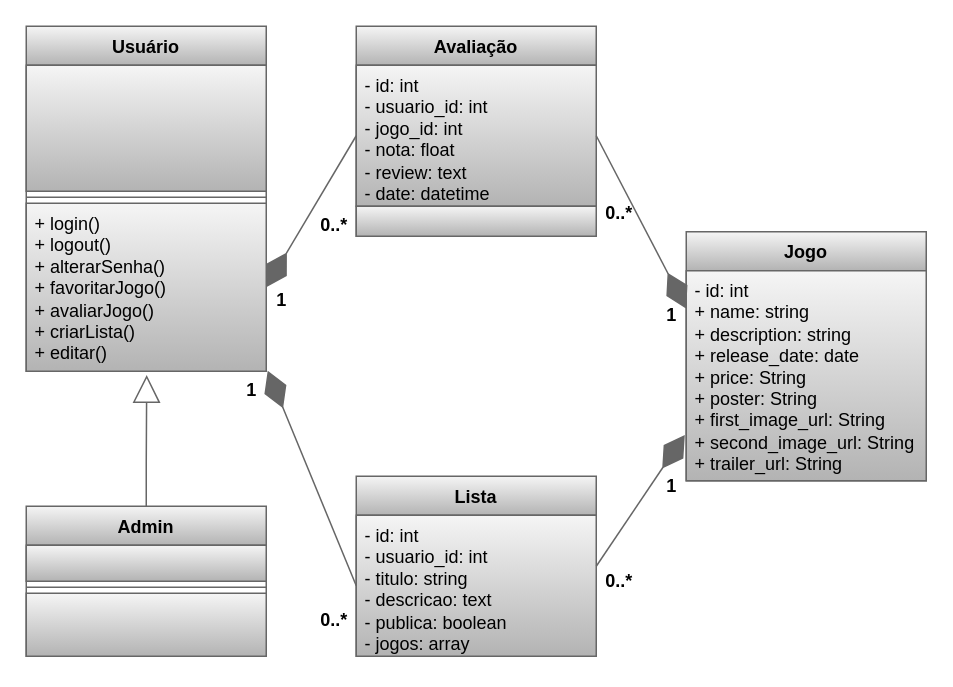
Image size: 953x687. Some labels were removed from this diagram. Each missing label, with the centre of its shape:
"+ editar()" goes at pixel 475 220.
"+ excluirReview(reviewId) + banirUsuario(usuarioId)" goes at pixel 145 624.
"- id: Int - nome: String - email: String - senha: String - aniversario: datetime" goes at pixel 145 127.
"- nivelDeAcesso: int" goes at pixel 145 562.
